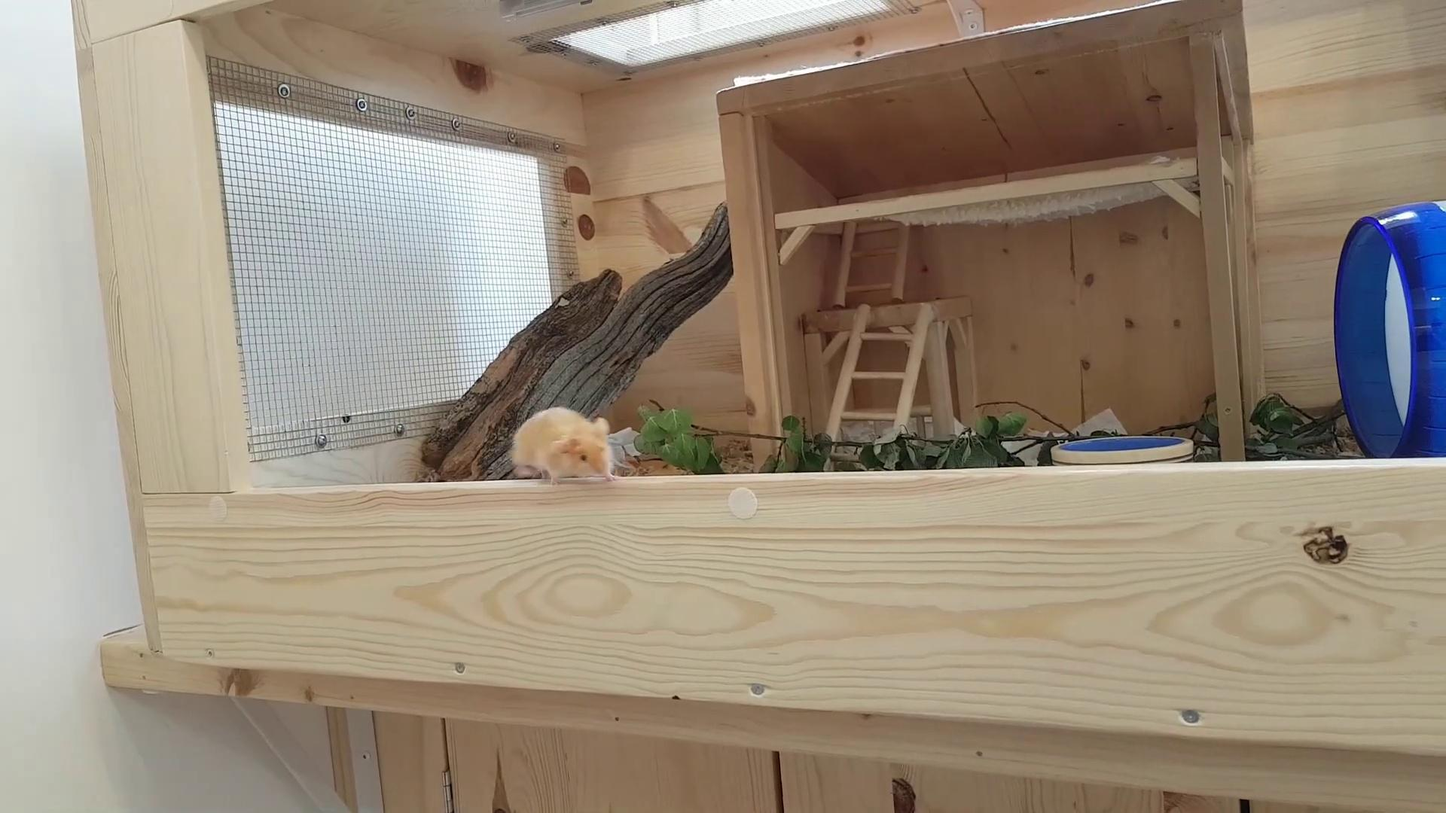rat: (510, 406, 615, 486)
